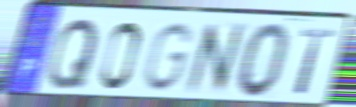0: (100, 20, 142, 92)
G: (140, 20, 195, 94)
N: (183, 21, 247, 98)
O: (235, 21, 291, 101)
Q: (45, 17, 101, 92)
T: (293, 28, 338, 97)
